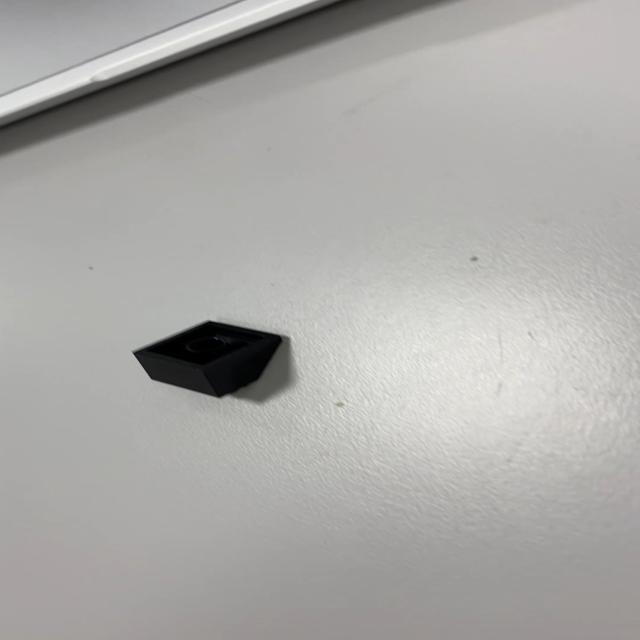P2x2x1: (128, 318, 290, 401)
